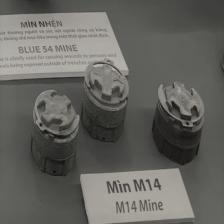M14: (32, 91, 78, 176), (156, 84, 203, 164), (84, 62, 128, 143)
